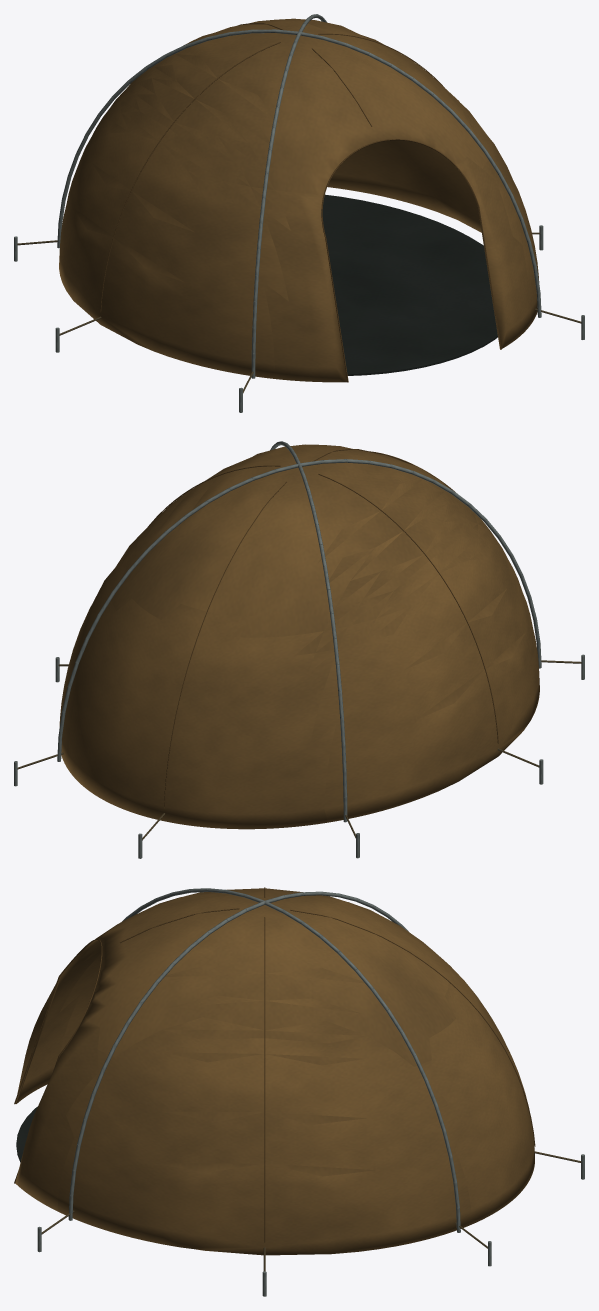
The model's file is level_camp_tent_fitted_east_dome_siteart.glb.
3 renders of one model, top to bottom at view 1: azimuth 30°, elevation 25°; view 2: azimuth 150°, elevation 25°; view 3: azimuth 270°, elevation 25°, orthographic.
Parts seen in each view (by area): view 1: level_camp_tent_fitted_east_dome_siteart; view 2: level_camp_tent_fitted_east_dome_siteart; view 3: level_camp_tent_fitted_east_dome_siteart.
Boxes of the visible parts, x1=… form: level_camp_tent_fitted_east_dome_siteart: x1=14, y1=14, x2=584, y2=412; level_camp_tent_fitted_east_dome_siteart: x1=14, y1=441, x2=584, y2=858; level_camp_tent_fitted_east_dome_siteart: x1=14, y1=887, x2=584, y2=1296.
Size of the model in its own units: 3.44 by 1.9 by 3.49.
Materials: 5 (5 with a texture image).
